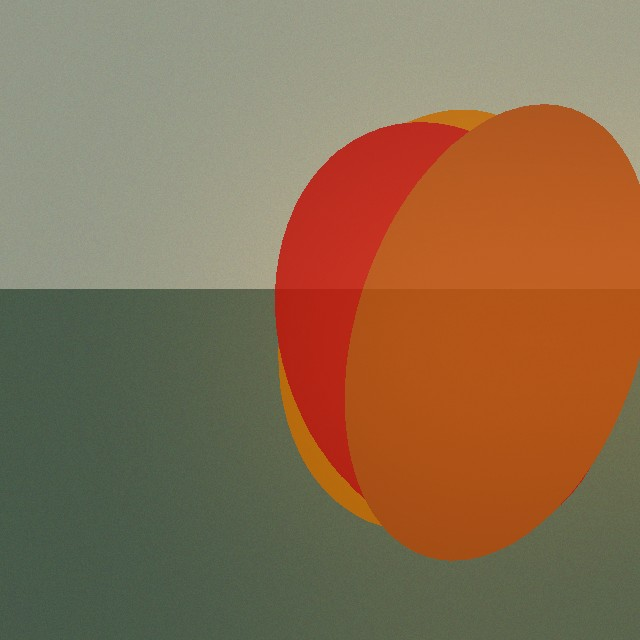fire: (363, 181, 541, 499)
